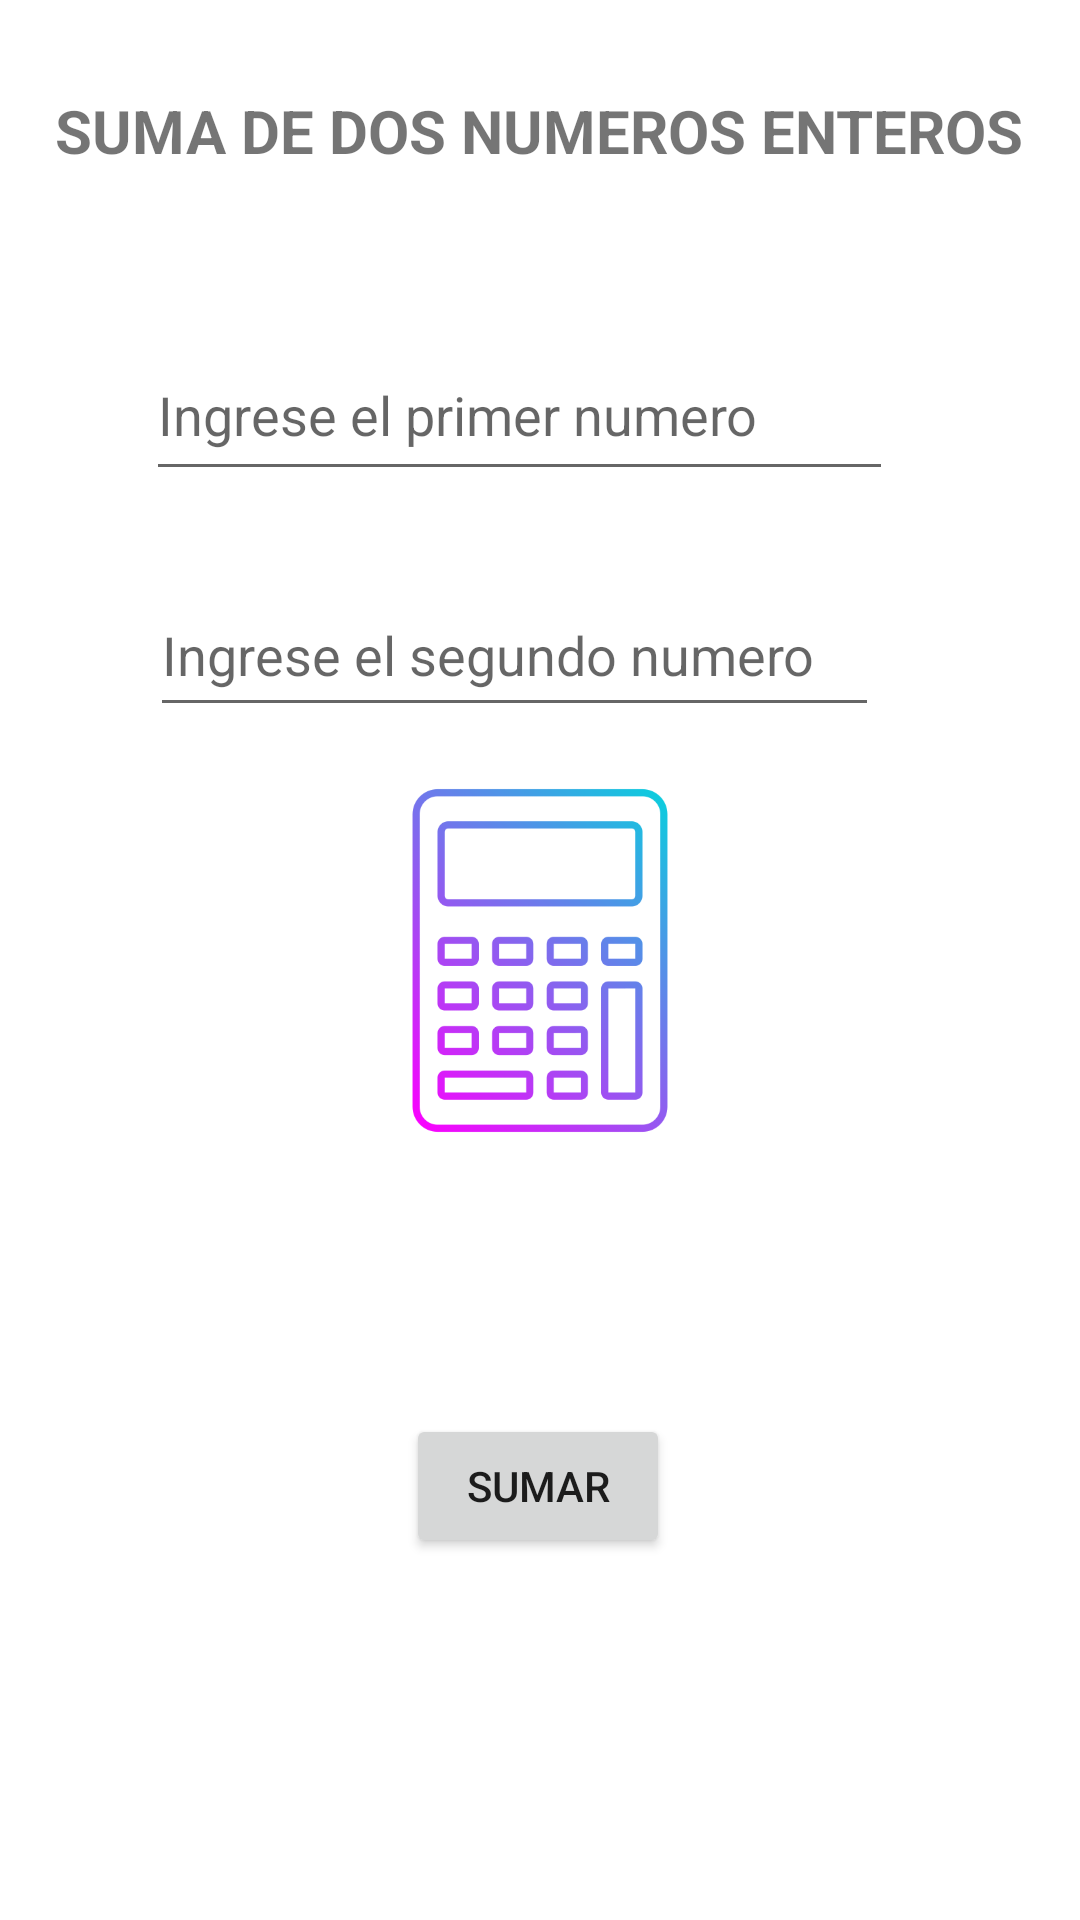

Screen size 1080*1920. Icon name, then its box in pixels as (x1, y1, x2, y2):
calcula: (412, 789, 668, 1132)
